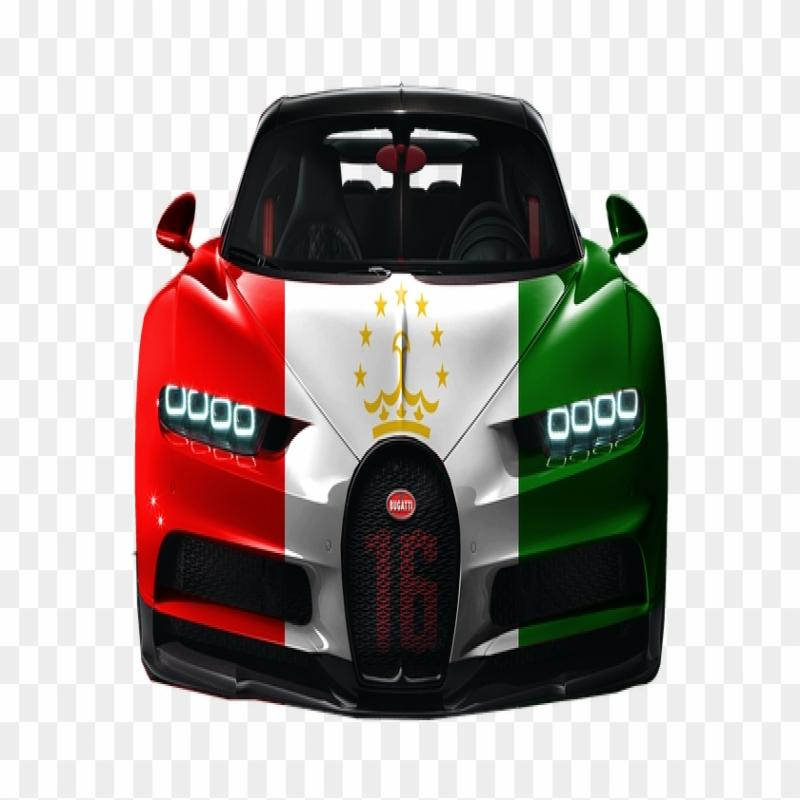car: (116, 70, 679, 693)
